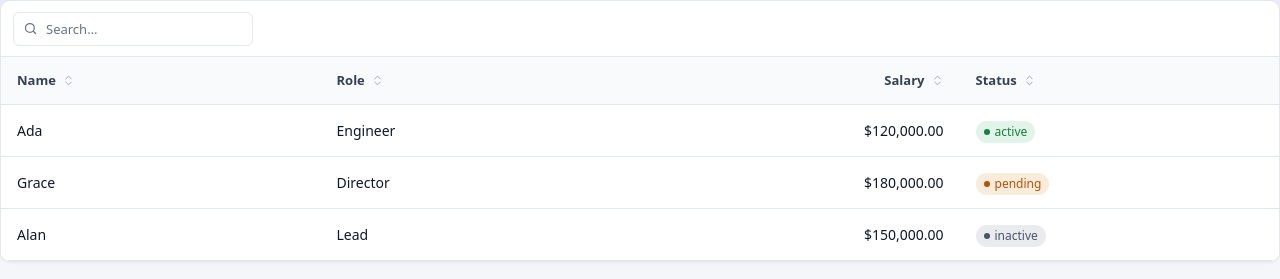
Test case: <SmartDataGrid> › filters through the search box
Type "grace" into the search field.
click(133, 28); type("grace")  # box [13,12,253,46]
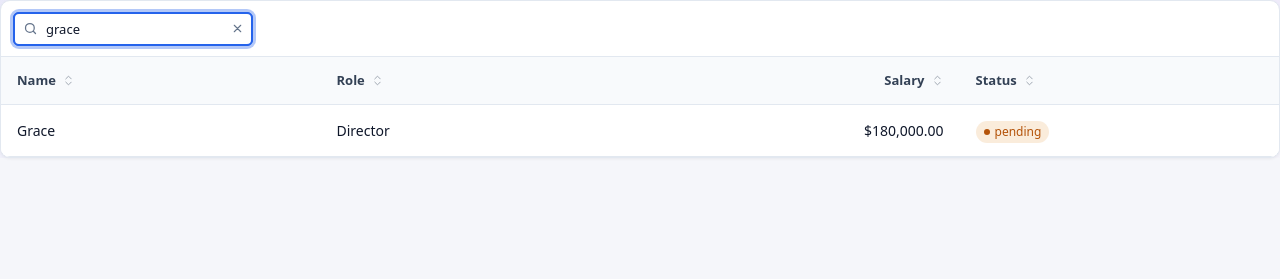
expect the text "Grace" is shown: met, box [17,121,55,140]
expect the text "Ada" is gone: met
